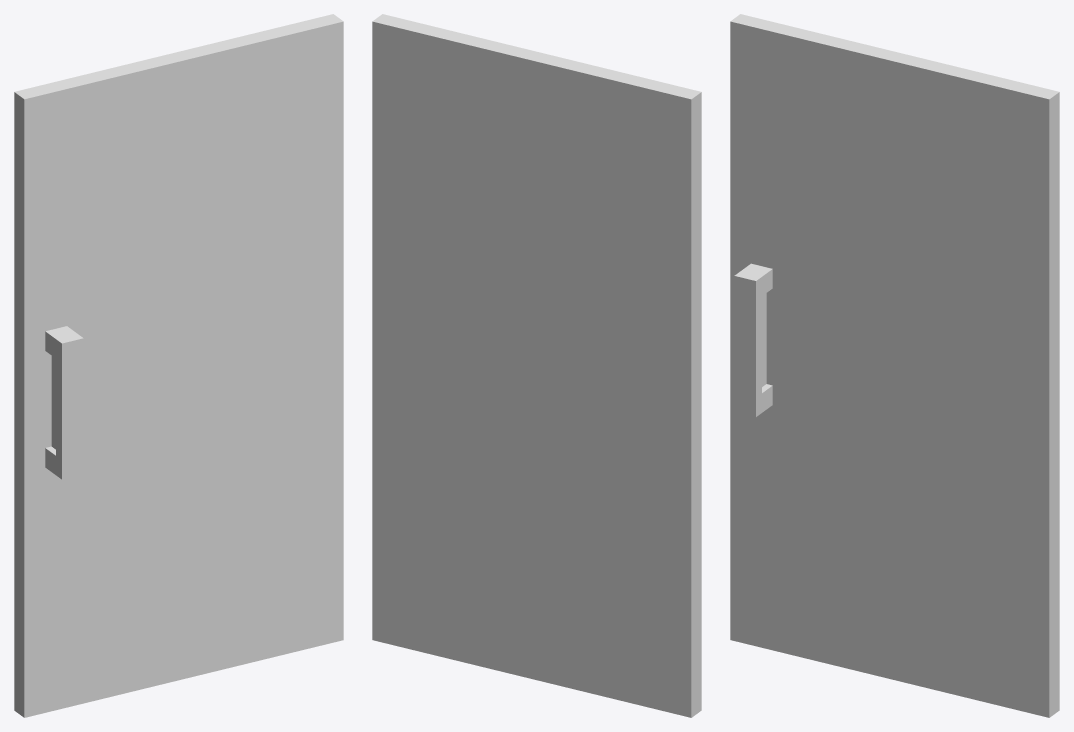
The model's file is Itr_Shelf1_Door_Right_01.FBX.
3 renders of one model, left to right at view 1: azimuth 30°, elevation 25°; view 2: azimuth 150°, elevation 25°; view 3: azimuth 330°, elevation 25°, orthographic.
Visible parts, largest first — view 1: Itr_Shelf1_Door_Right_01; view 2: Itr_Shelf1_Door_Right_01; view 3: Itr_Shelf1_Door_Right_01.
Boxes of the visible parts, x1=… form: Itr_Shelf1_Door_Right_01: x1=14, y1=14, x2=343, y2=717; Itr_Shelf1_Door_Right_01: x1=372, y1=14, x2=701, y2=717; Itr_Shelf1_Door_Right_01: x1=730, y1=14, x2=1059, y2=717.
Bounding box in the file's own units: 22.1 × 40.92 × 3.23.
